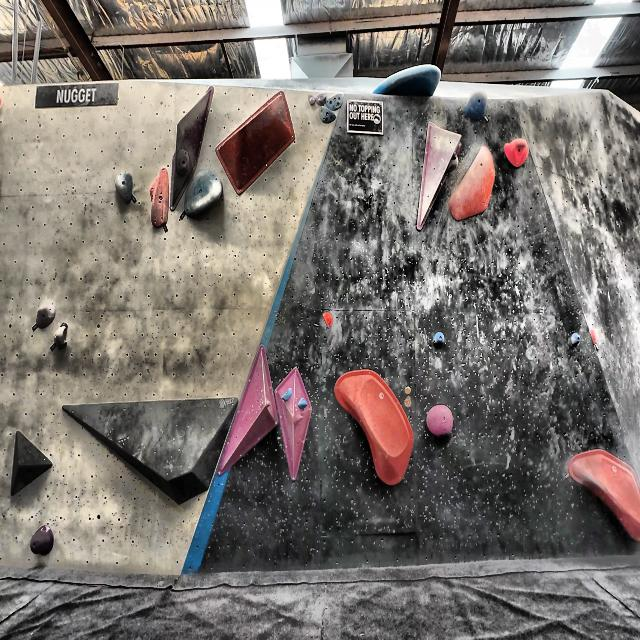Hold: (335, 369, 413, 491), (215, 341, 278, 485), (214, 91, 295, 202), (567, 441, 640, 536), (268, 356, 312, 488), (172, 86, 210, 220), (416, 117, 456, 236), (449, 146, 495, 226), (370, 63, 448, 101), (184, 174, 224, 222), (150, 166, 173, 237), (426, 402, 459, 440), (502, 138, 535, 172), (28, 524, 55, 558), (466, 91, 489, 123), (113, 167, 130, 210), (32, 301, 56, 329), (57, 321, 74, 355), (322, 91, 346, 113), (310, 88, 328, 110), (320, 110, 343, 127), (431, 332, 447, 348), (319, 311, 335, 327)
